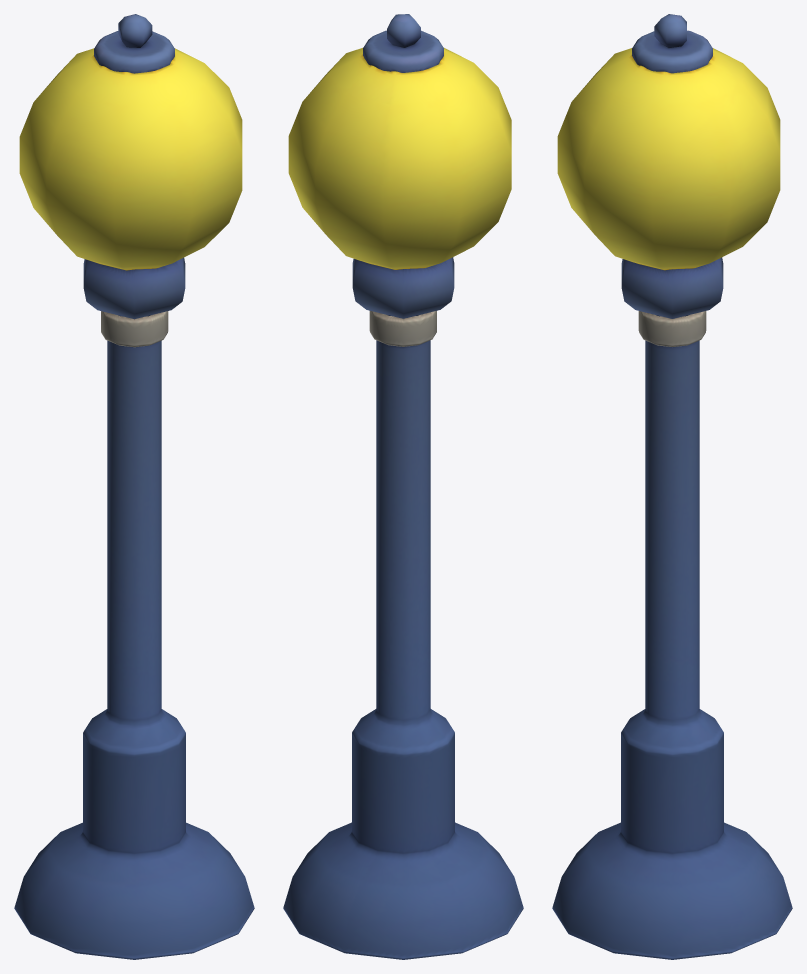
The model's file is SM_Town_StreetLight_01.fbx.
3 renders of one model, left to right at view 1: azimuth 30°, elevation 25°; view 2: azimuth 150°, elevation 25°; view 3: azimuth 270°, elevation 25°, orthographic.
Visible parts, largest first — view 1: SM_Town_StreetLight_01; view 2: SM_Town_StreetLight_01; view 3: SM_Town_StreetLight_01.
Part boxes in pixels (box(x1,y1,x2,y2)): SM_Town_StreetLight_01: box(14, 14, 254, 959); SM_Town_StreetLight_01: box(283, 14, 523, 959); SM_Town_StreetLight_01: box(552, 14, 792, 959).
Size of the model in its own units: 127 by 522 by 127.
